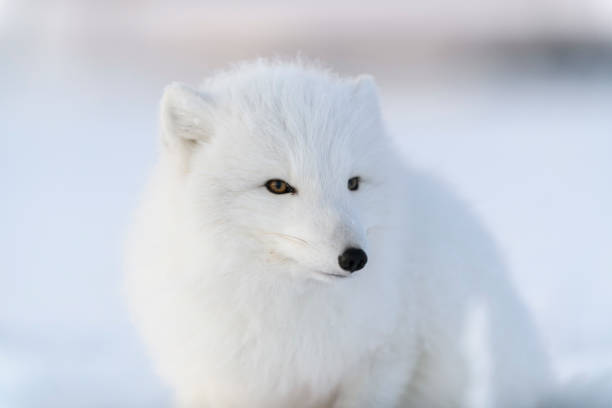arcticfox: (204, 71, 354, 277)
